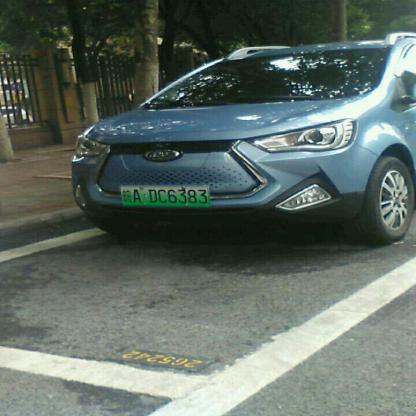lp: (119, 186, 209, 206)
